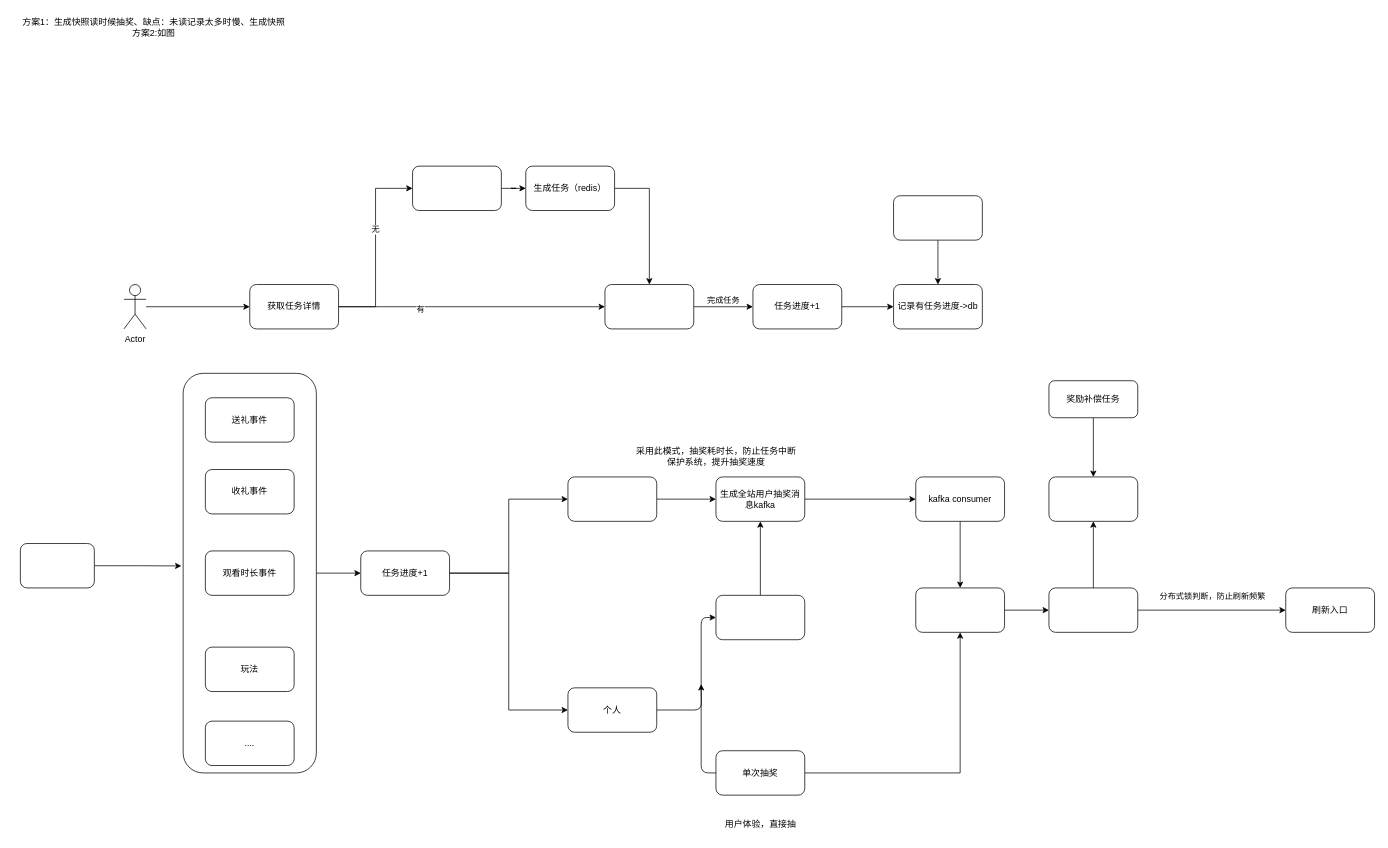
Image size: 1388x848. Some labels were removed from this diagram. Each missing label, with the centre of its shape:
"kafka任务进度" goes at (x=57, y=565).
"下发奖励" goes at (x=1093, y=498).
"任务详情" goes at (x=649, y=306).
"全站" goes at (x=612, y=498).
"回写T-1数据" goes at (x=937, y=217).
"批量抽奖" goes at (x=760, y=617).
"抽奖" goes at (x=960, y=609).
"抽奖记录" goes at (x=1093, y=609).
"权限校验" goes at (x=456, y=188).
